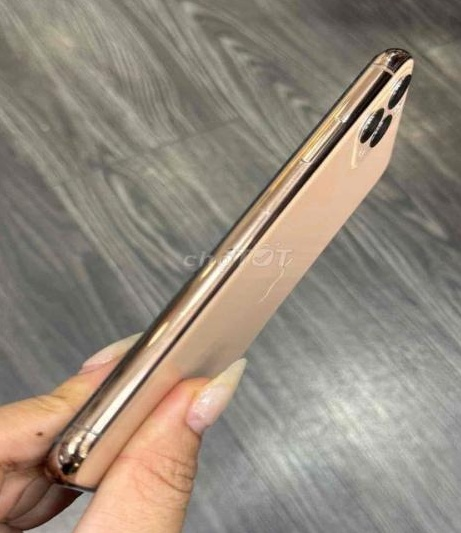scratch: (58, 413, 110, 464)
